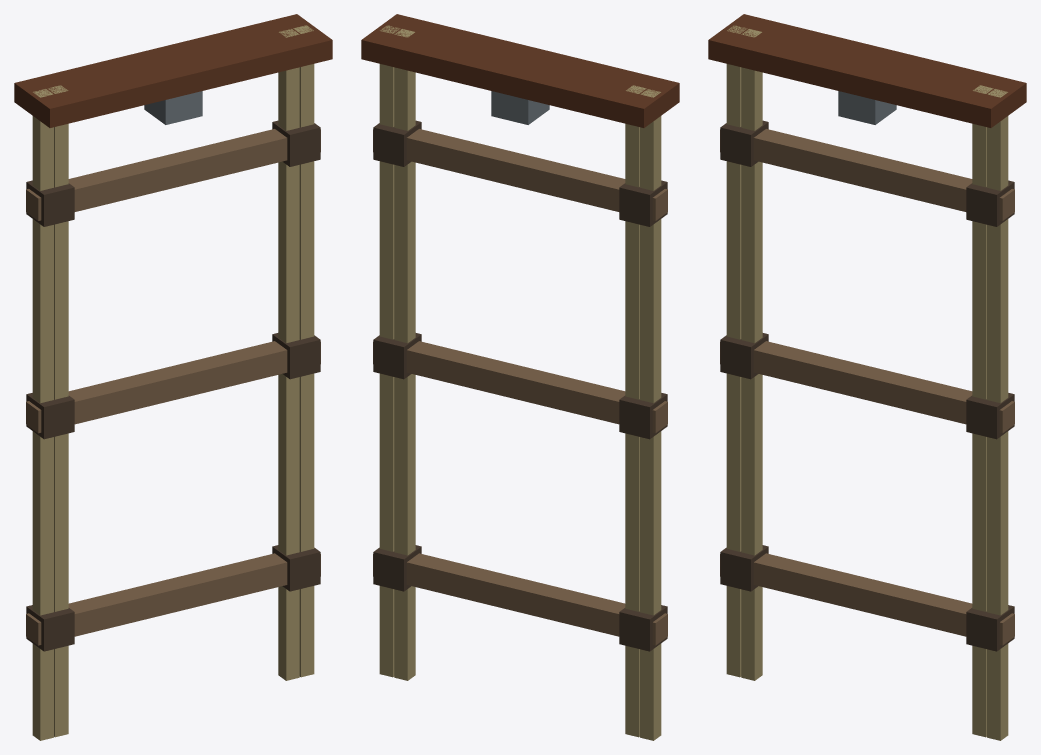
File: rope_ladder_seg.glb
3 views of the same model, side by side, from view 1: azimuth 30°, elevation 25°; view 2: azimuth 150°, elevation 25°; view 3: azimuth 330°, elevation 25° (orthographic).
Parts seen in each view (by area): view 1: rope_ladder_seg; view 2: rope_ladder_seg; view 3: rope_ladder_seg.
Part boxes in pixels (x1,y1,x2,y2): rope_ladder_seg: (14, 14, 332, 740); rope_ladder_seg: (361, 14, 679, 740); rope_ladder_seg: (708, 14, 1026, 740).
Size of the model in its own units: 0.46 by 1 by 0.1.
Materials: 3 (3 with a texture image).
